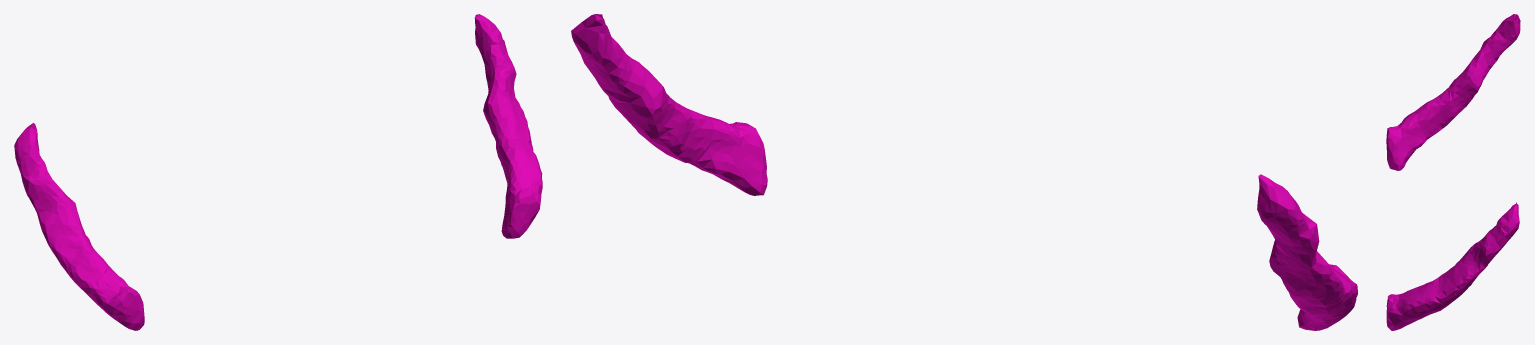
Rendered from 198-TAa-temporal area TAa-('1.0000', '0.0000', '0.8039').obj.
3 renders of one model, left to right at view 1: azimuth 30°, elevation 25°; view 2: azimuth 150°, elevation 25°; view 3: azimuth 270°, elevation 25°, orthographic. The views are drawn at different scales.
Size of the model in its own units: 352 by 113 by 96.29.
